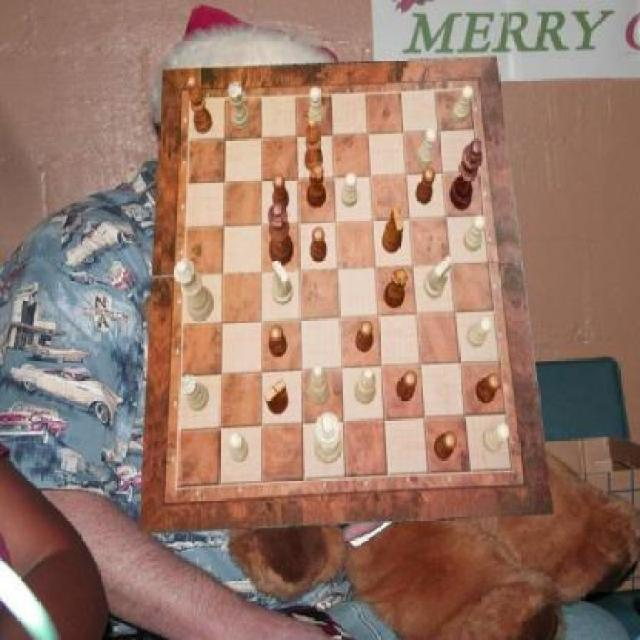bishop: (189, 77, 214, 135), (304, 117, 324, 171)
black-bishop: (450, 140, 482, 212)
black-king: (381, 208, 404, 254), (265, 378, 289, 414)
black-knight: (417, 166, 437, 204), (477, 374, 501, 404), (274, 172, 291, 210), (434, 432, 457, 460), (396, 371, 416, 402), (310, 228, 328, 262), (270, 326, 288, 359), (355, 321, 373, 354)
black-pawn: (268, 202, 294, 266)
black-queen: (384, 268, 408, 308), (308, 163, 328, 209)
black-rook: (309, 365, 330, 406), (354, 366, 376, 404)
white-bishop: (314, 412, 341, 465)
white-king: (425, 256, 452, 300), (271, 258, 293, 304)
white-knight: (452, 85, 475, 122), (463, 216, 486, 252), (483, 422, 510, 452), (468, 317, 492, 349), (417, 128, 437, 166), (310, 88, 326, 128), (229, 431, 249, 462), (342, 172, 358, 207)
white-pawn: (174, 258, 214, 321)
white-queen: (180, 374, 209, 411), (229, 83, 250, 131)
